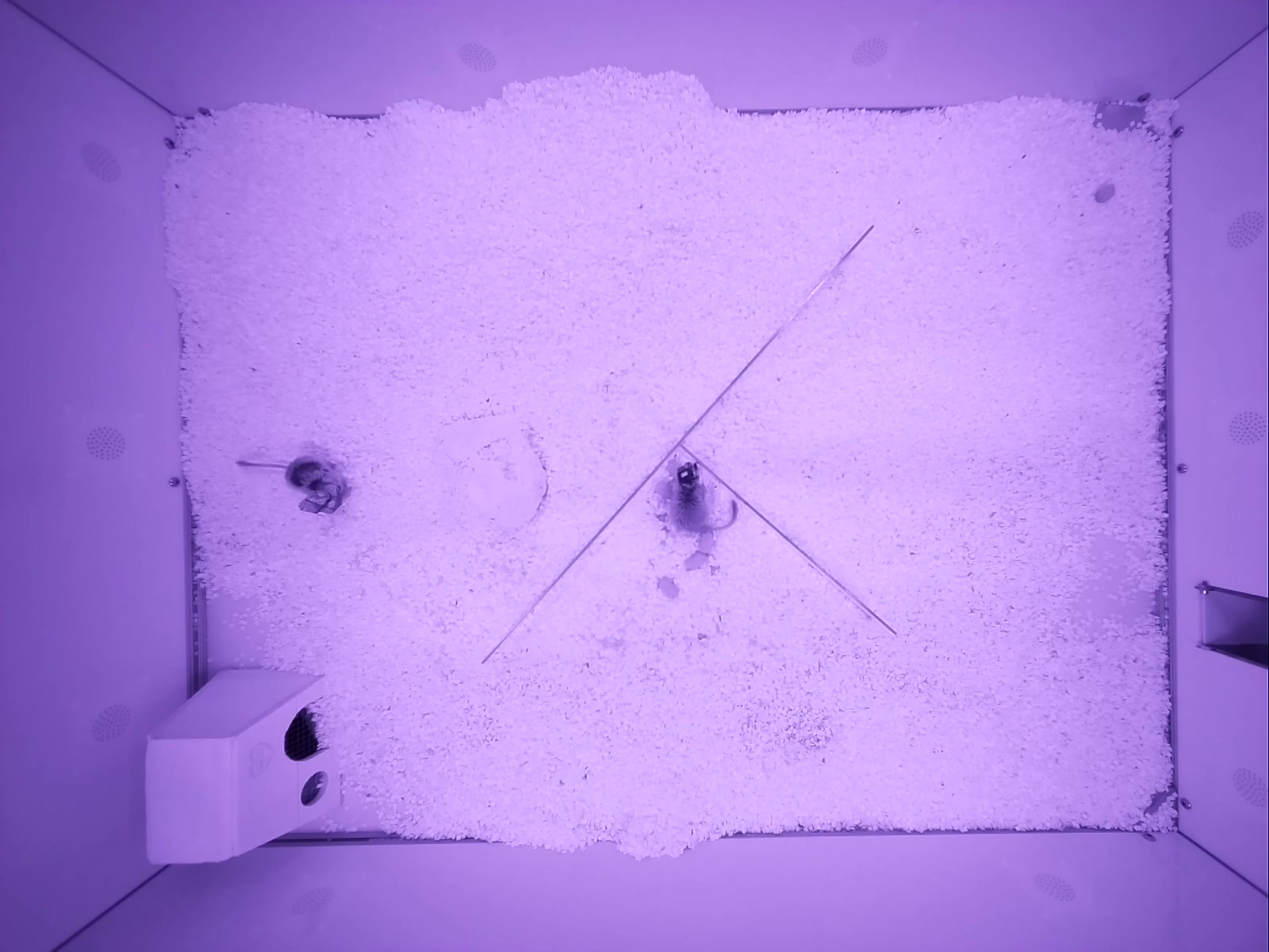adult_back: (237, 456, 348, 513), (671, 462, 738, 532)
